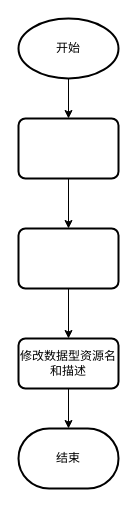
This 136x506 diagram has some shape labels left out. Each missing label, with the centre of its shape:
参数校验: point 68,148
添加数据库资源配置信息: point 68,258
